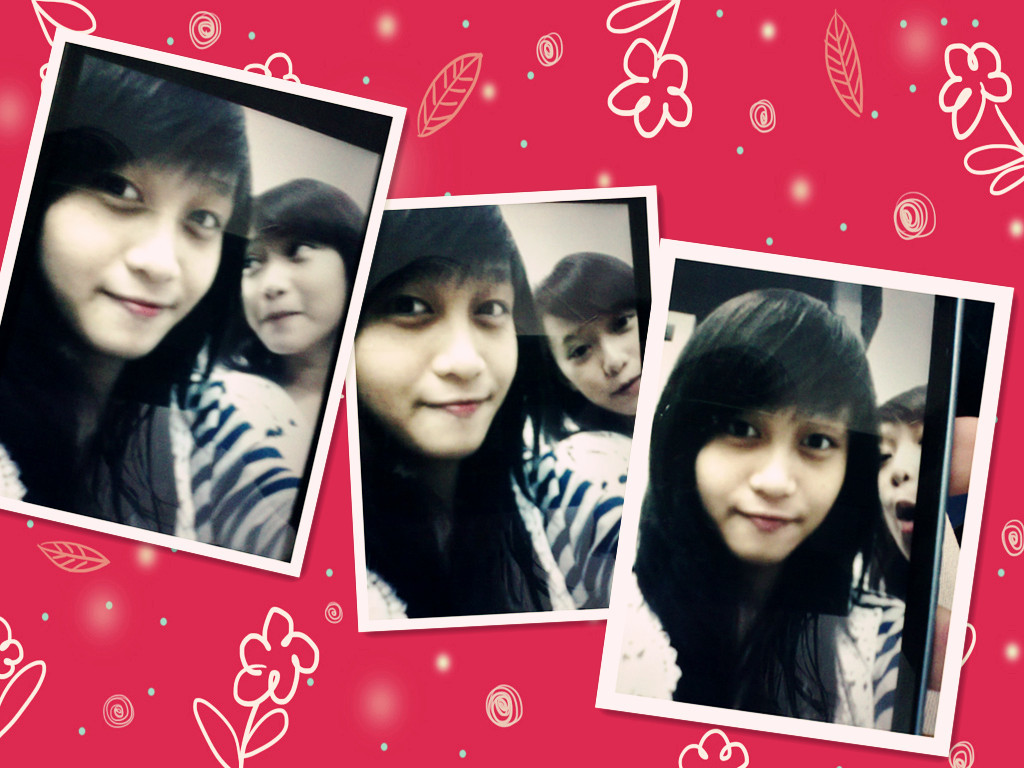face: (859, 412, 960, 550)
